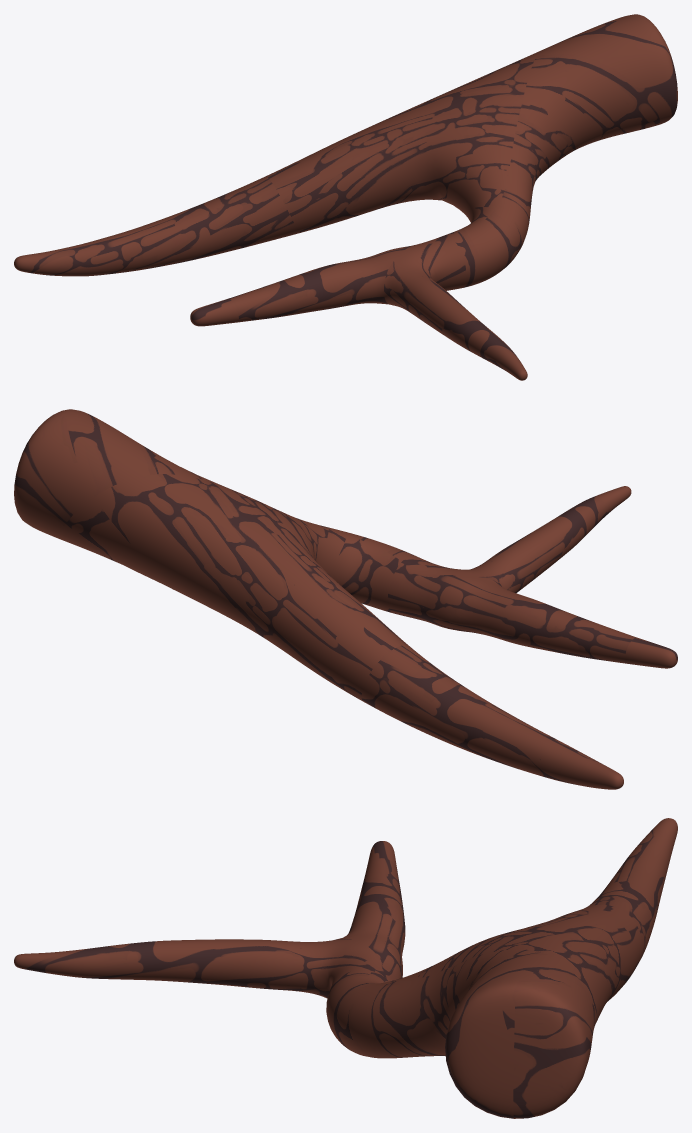
Rendered from Wurzel Rework.fbx.
3 renders of one model, top to bottom at view 1: azimuth 30°, elevation 25°; view 2: azimuth 150°, elevation 25°; view 3: azimuth 270°, elevation 25°, orthographic. The views are drawn at different scales.
Parts seen in each view (by area): view 1: Wurzel Rework; view 2: Wurzel Rework; view 3: Wurzel Rework.
Boxes of the visible parts, x1,y1,x2,y2 form: Wurzel Rework: (14, 14, 677, 380); Wurzel Rework: (14, 409, 677, 789); Wurzel Rework: (14, 818, 677, 1118).
Size of the model in its own units: 274 by 76.17 by 211.
